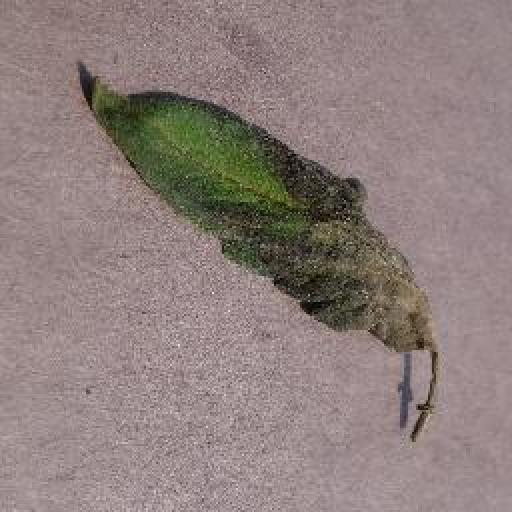Late Blight: (72, 63, 441, 356)
